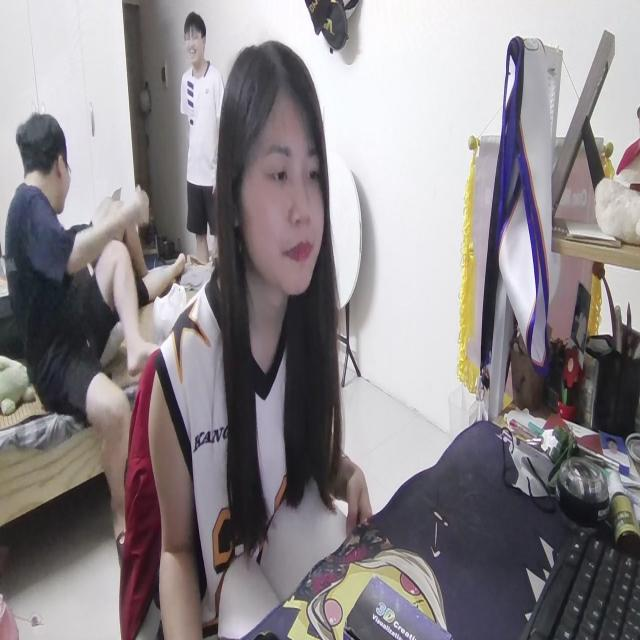book: (215, 478, 348, 635)
extra_person: (9, 117, 153, 540), (176, 13, 236, 273)
student: (153, 31, 370, 640)
